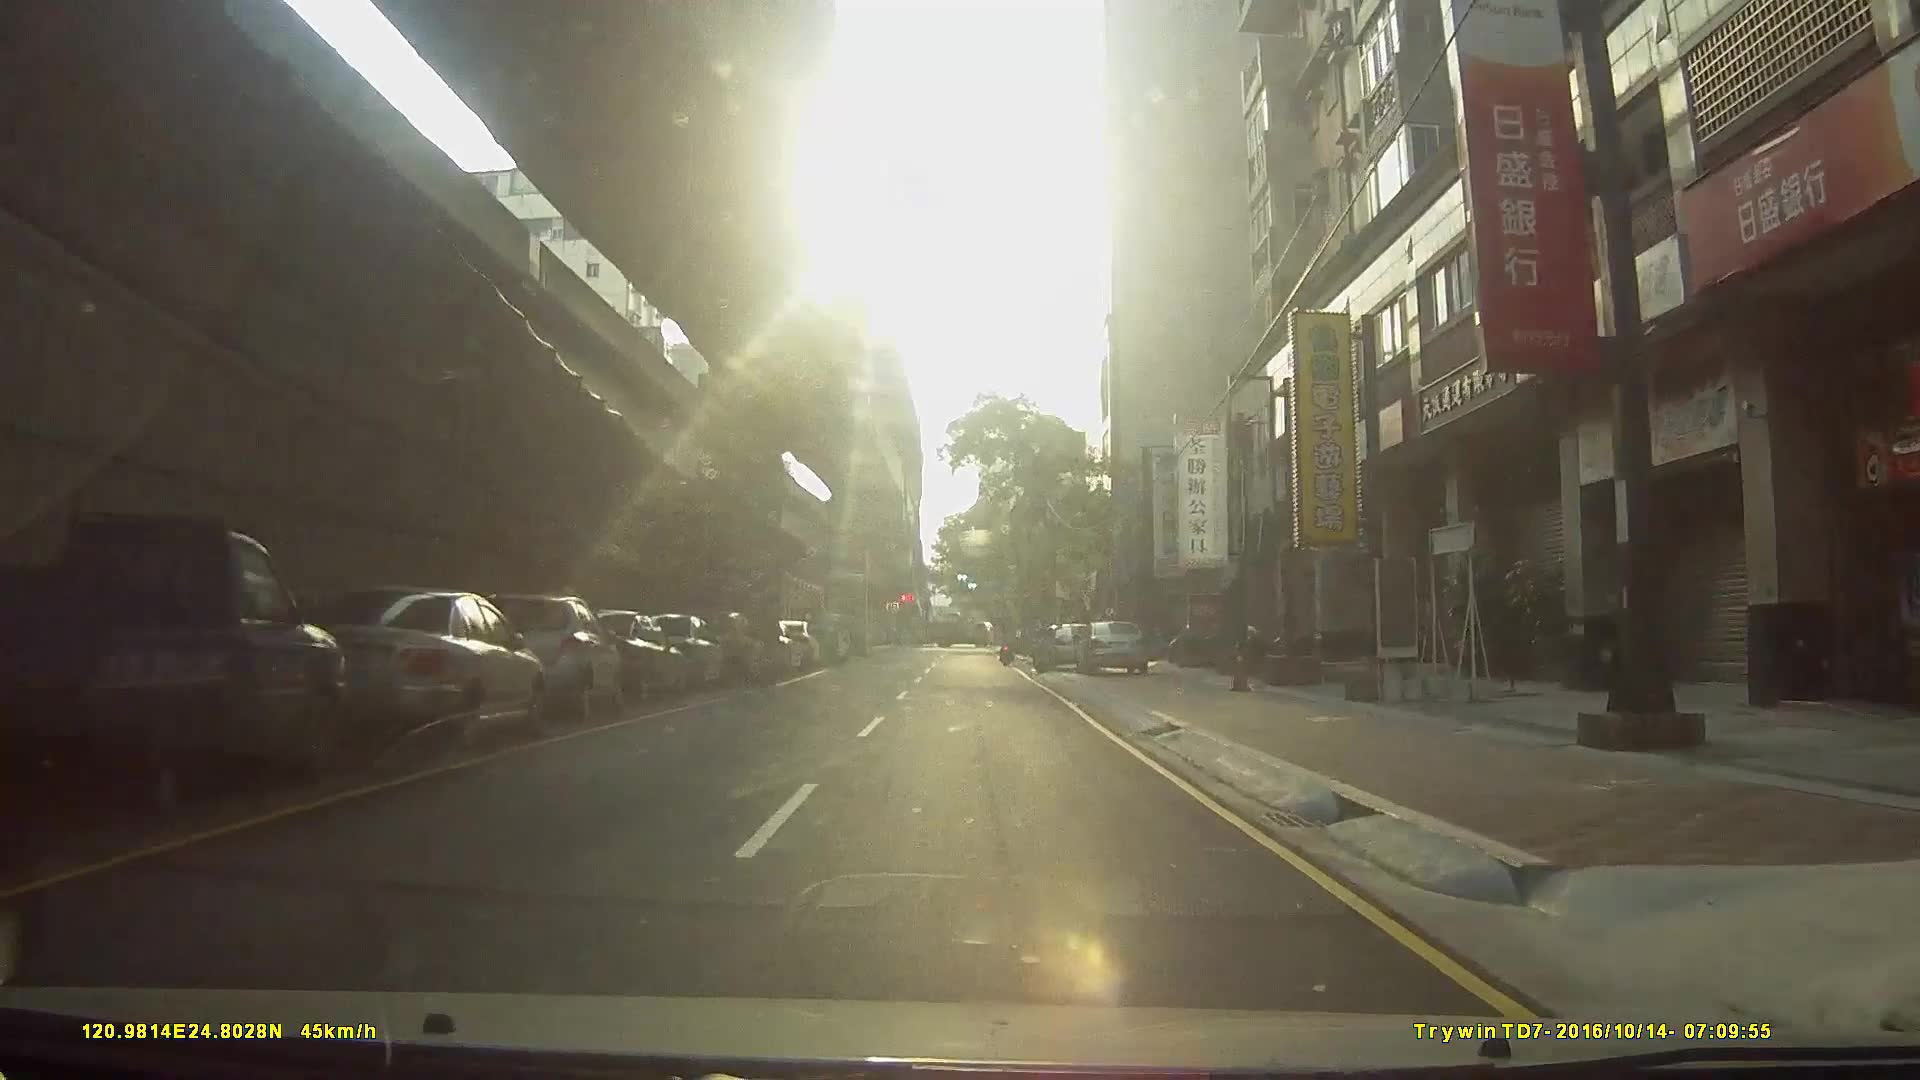vehicle: (3, 512, 349, 837), (264, 580, 541, 758), (454, 587, 617, 725), (559, 607, 682, 703), (637, 611, 724, 690), (688, 607, 766, 683), (1072, 616, 1153, 673), (1030, 620, 1092, 673), (920, 611, 1000, 647)
